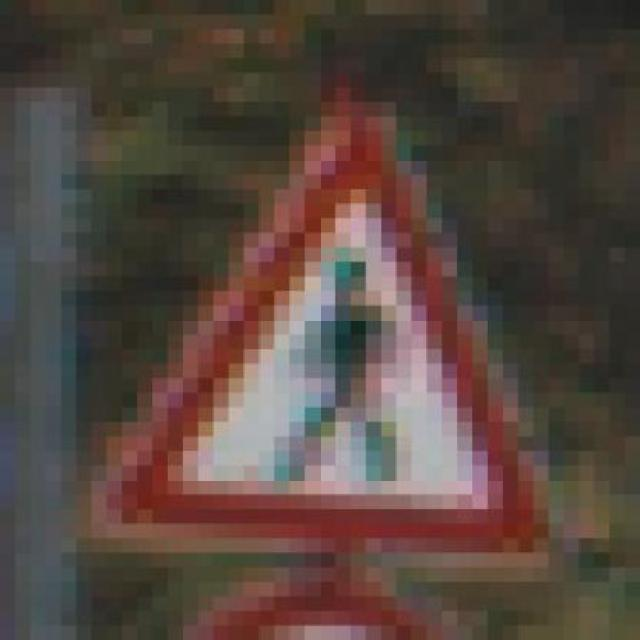Pedestrian Crossing: (76, 43, 564, 568)
